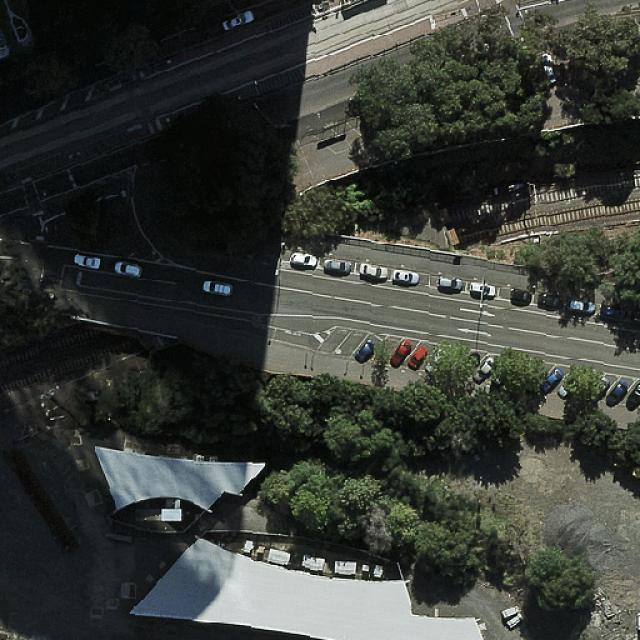Bike-Symbols: (249, 311, 265, 326)
